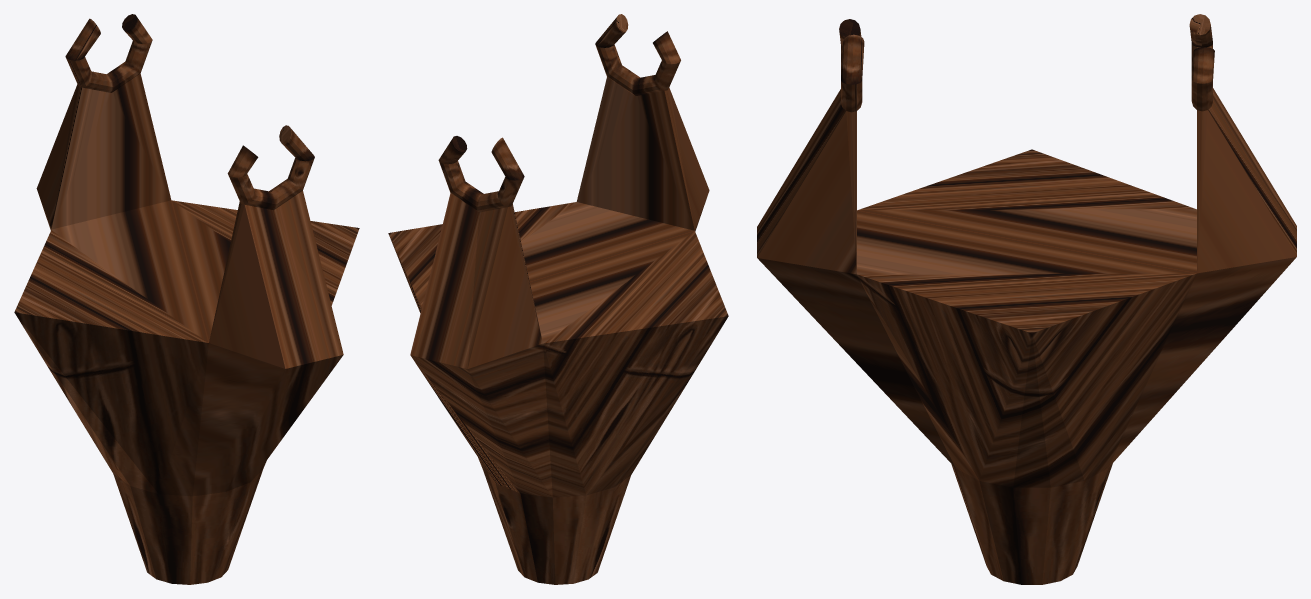
Rendered from Foundation.obj.
3 views of the same model, side by side, from view 1: azimuth 30°, elevation 25°; view 2: azimuth 150°, elevation 25°; view 3: azimuth 270°, elevation 25° (orthographic). The views are drawn at different scales.
Parts seen in each view (by area): view 1: Circle_Circle.001; view 2: Circle_Circle.001; view 3: Circle_Circle.001.
Part boxes in pixels (box(x1,y1,x2,y2)): Circle_Circle.001: box(14, 14, 359, 584); Circle_Circle.001: box(388, 14, 728, 584); Circle_Circle.001: box(757, 14, 1296, 584).
Bounding box in the file's own units: 2 × 2.75 × 2.48.
Materials: 1 (1 with a texture image).
